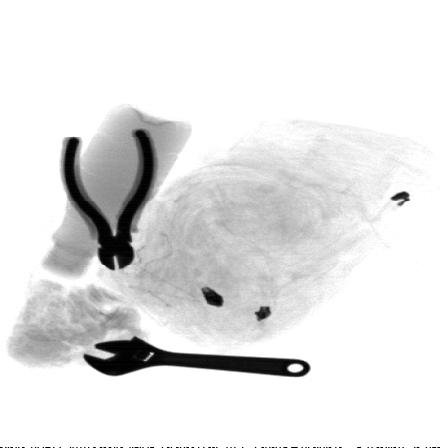Pliers: (58, 128, 158, 272)
Wrench: (81, 335, 310, 378)
